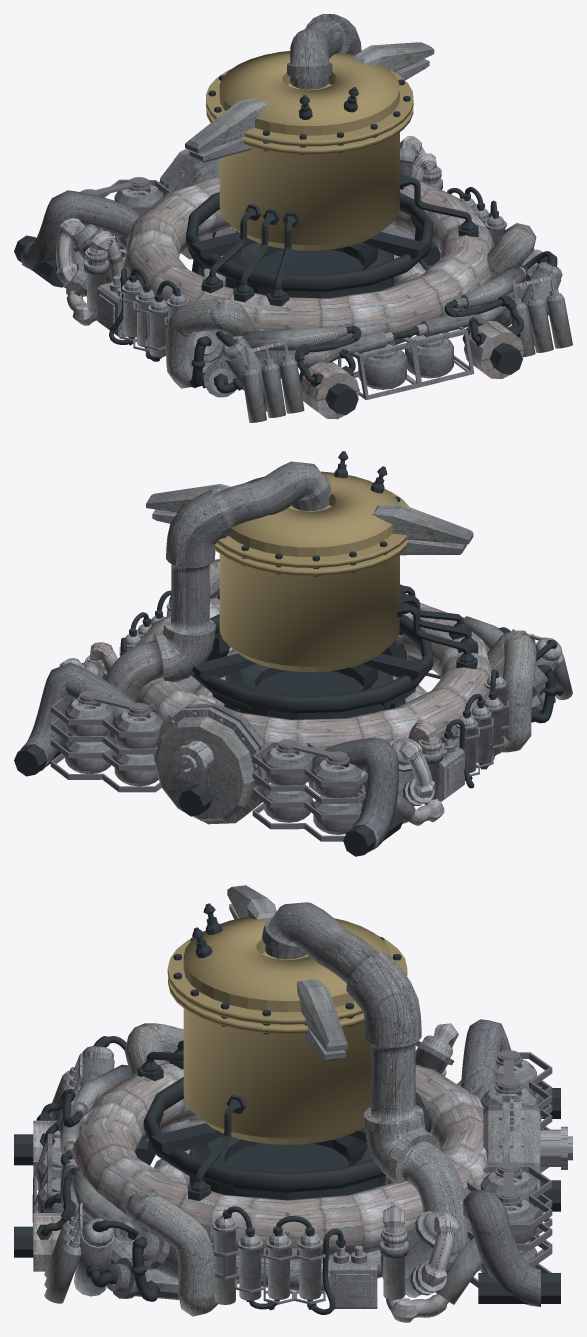
Rendered from distillery.glb.
3 views of the same model, one above another, from view 1: azimuth 30°, elevation 25°; view 2: azimuth 150°, elevation 25°; view 3: azimuth 270°, elevation 25° (orthographic). The views are drawn at different scales.
Visible parts, largest first — view 1: Cylinder.011, Torus.001, Cylinder.006, Cylinder.009, Cylinder, Torus, Cube.003, Cylinder.007, Cylinder.020, Cylinder.014, Cylinder.008, Cylinder.010 (+9 smaller); view 2: Cylinder.011, Cylinder.006, Cylinder.020, Torus.001, Cylinder, Cylinder.009, Cylinder.015, Torus, Cylinder.007, Cube.003, Cylinder.014, Cylinder.003 (+6 smaller); view 3: Cylinder.011, Torus.001, Cylinder.006, Cylinder.020, Cylinder, Cylinder.009, Torus, Cylinder.007, Cylinder.015, Cube.003, Cylinder.014, Cylinder.003 (+7 smaller).
Boxes of the visible parts, x1,y1,x2,y2 form: Cylinder.011: (63, 148, 572, 422); Torus.001: (123, 175, 494, 358); Cylinder.006: (206, 103, 413, 250); Cylinder.009: (206, 51, 413, 146); Cylinder: (20, 190, 536, 388); Torus: (186, 192, 440, 296); Cube.003: (185, 42, 434, 162); Cylinder.007: (225, 242, 393, 298); Cylinder.020: (287, 14, 361, 89); Cylinder.014: (56, 136, 436, 325); Cylinder.008: (300, 321, 524, 419); Cylinder.010: (295, 295, 523, 386); Cylinder.011: (50, 595, 572, 841); Cylinder.006: (215, 539, 408, 672); Cylinder.020: (105, 461, 331, 702); Torus.001: (135, 597, 492, 758); Cylinder: (20, 559, 536, 852); Cylinder.009: (216, 471, 409, 567); Cylinder.015: (153, 703, 268, 824); Torus: (191, 614, 433, 713); Cylinder.007: (225, 663, 393, 719); Cube.003: (146, 484, 473, 555); Cylinder.014: (59, 642, 444, 825); Cylinder.003: (14, 733, 403, 856); Cylinder.011: (32, 1035, 552, 1308); Torus.001: (71, 1062, 490, 1259); Cylinder.006: (168, 977, 371, 1144); Cylinder.020: (262, 902, 469, 1255); Cylinder: (124, 1019, 540, 1316); Cylinder.009: (167, 917, 407, 1024); Torus: (135, 1077, 431, 1198); Cylinder.007: (189, 1135, 385, 1200); Cylinder.015: (483, 1095, 572, 1227); Cube.003: (227, 885, 347, 1061); Cylinder.014: (380, 1023, 458, 1322); Cylinder.003: (14, 1088, 560, 1303).
Bounding box in the file's own units: 45.66 × 33.73 × 51.09.
5 materials, 3 textured.
